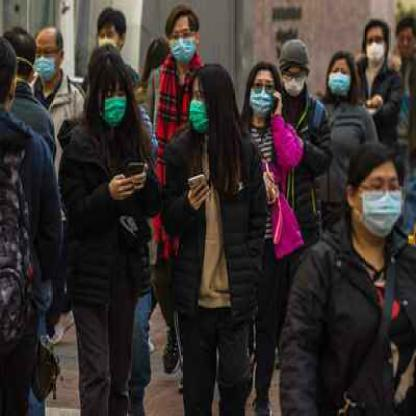Wearing_Mask: (362, 151, 403, 236), (188, 71, 226, 137), (92, 57, 127, 126), (163, 2, 199, 66), (250, 71, 282, 123), (365, 28, 393, 75), (35, 38, 62, 84), (326, 57, 354, 96), (284, 56, 305, 98)
